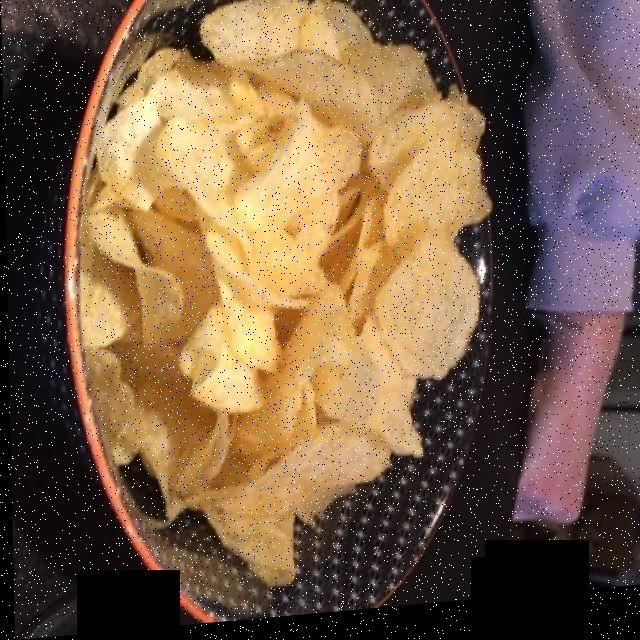crisps: (88, 0, 479, 567)
